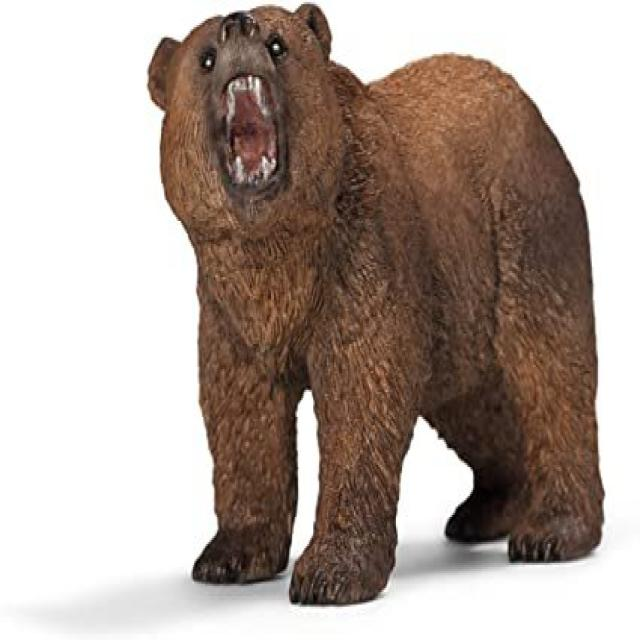bear: (124, 1, 640, 640)
